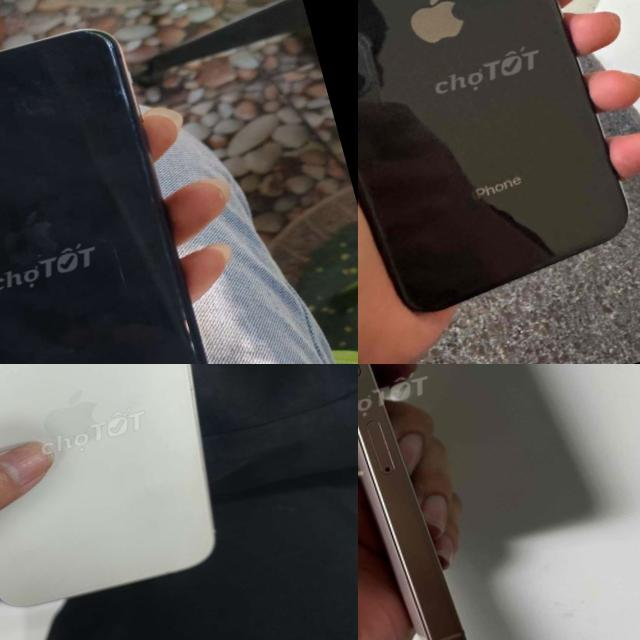gen_11: (0, 0, 250, 364)
gen_15: (0, 364, 285, 640)
gen_16: (358, 364, 466, 640)
gen_x_xs: (358, 0, 640, 347)
